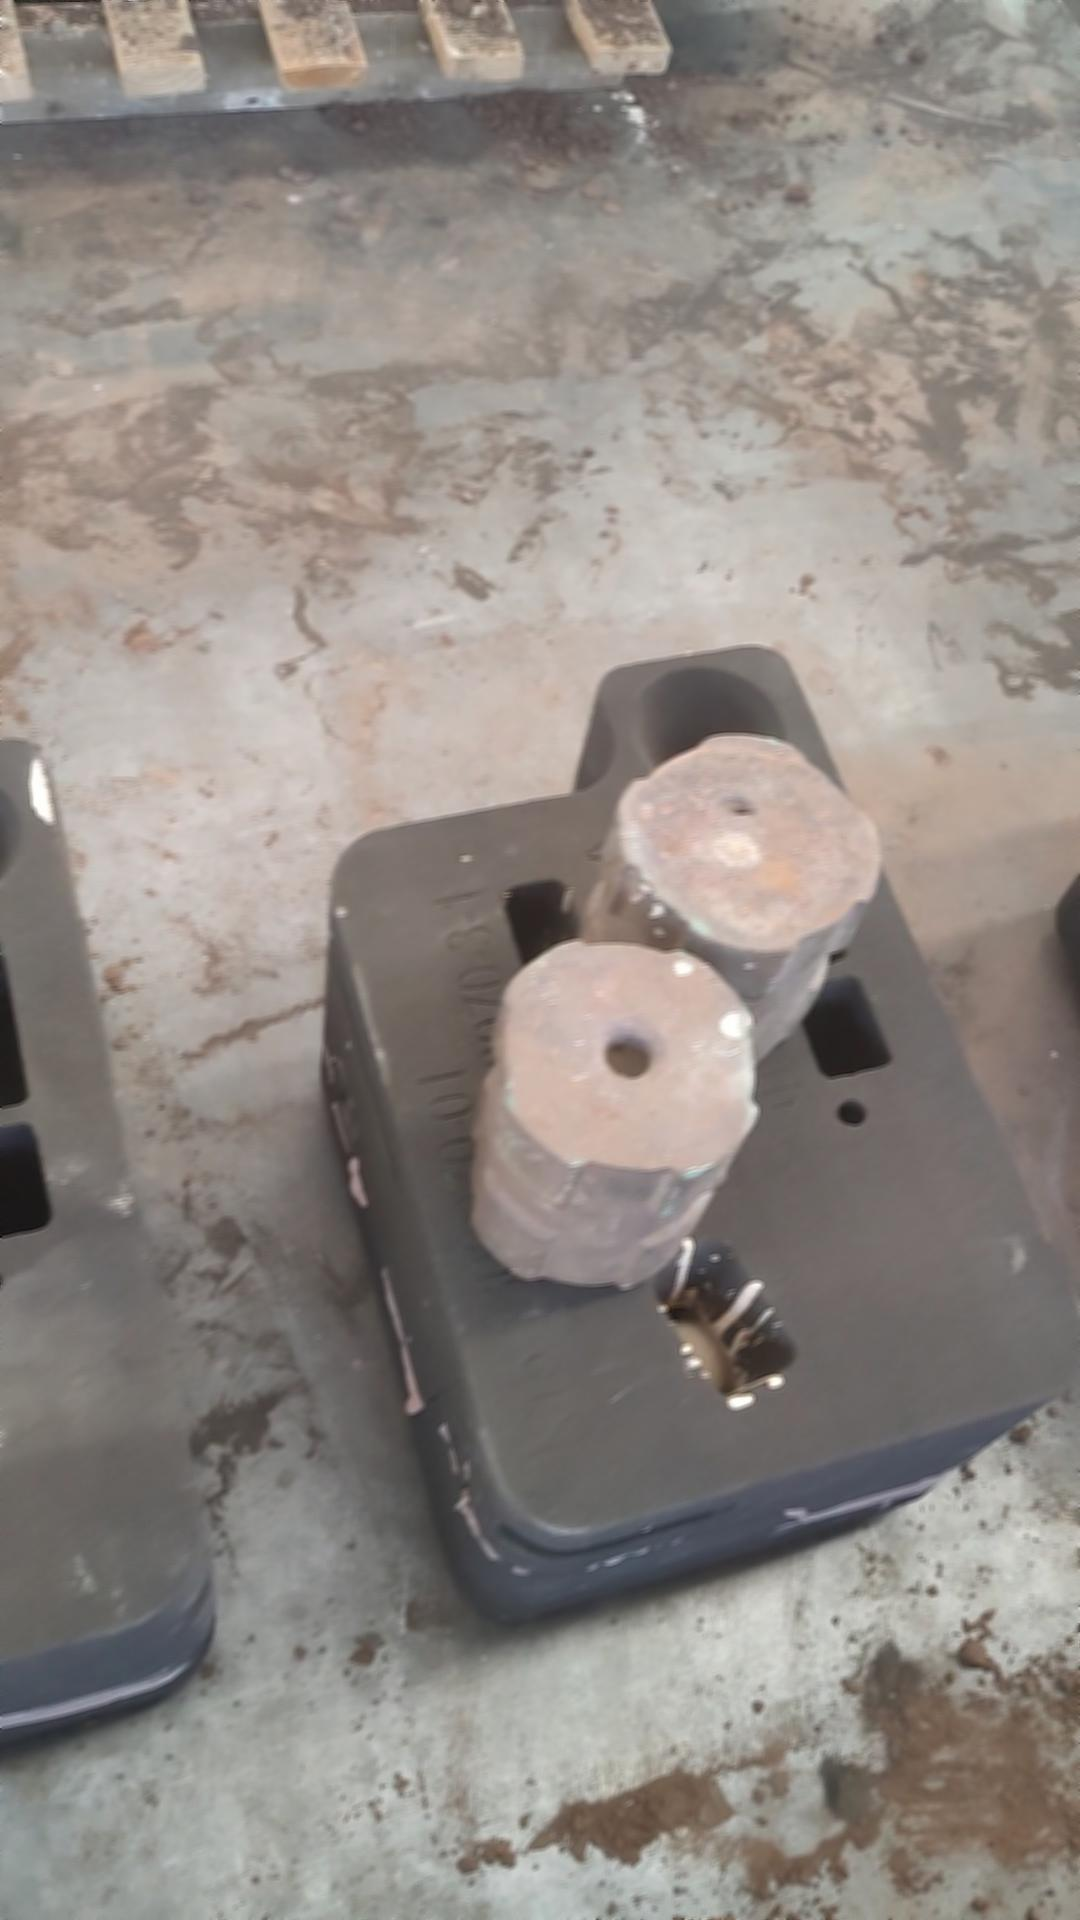pouring hole: (629, 661, 789, 787), (1, 786, 26, 886)
